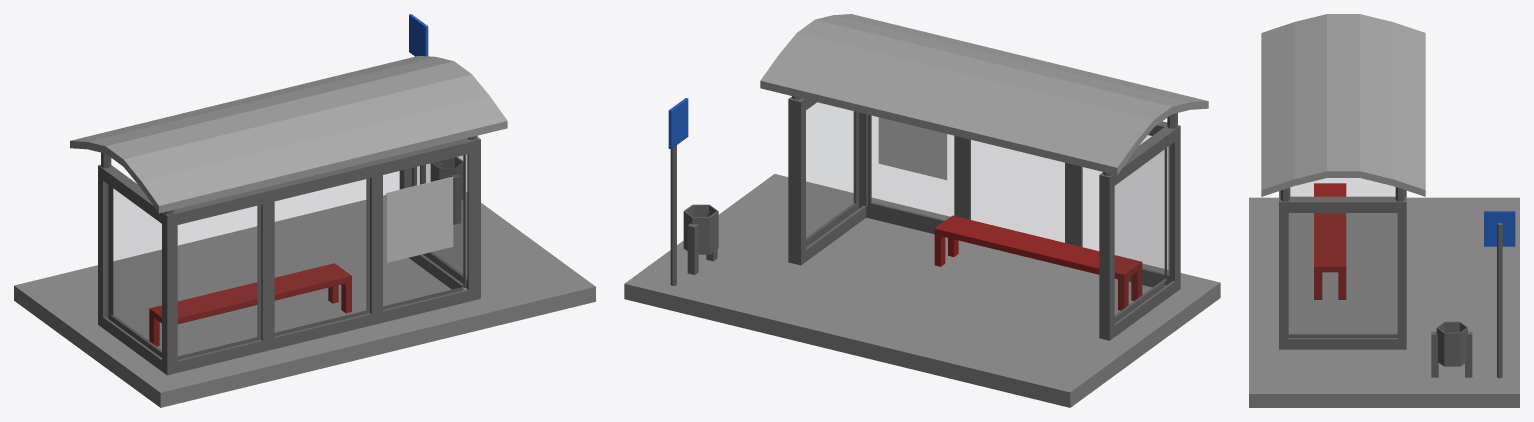
The model's file is Bus_Stop_1.fbx.
3 renders of one model, left to right at view 1: azimuth 30°, elevation 25°; view 2: azimuth 150°, elevation 25°; view 3: azimuth 270°, elevation 25°, orthographic. The views are drawn at different scales.
Parts seen in each view (by area): view 1: Plane; view 2: Plane; view 3: Plane.
Boxes of the visible parts, x1=… form: Plane: x1=14, y1=14, x2=595, y2=407; Plane: x1=624, y1=14, x2=1220, y2=407; Plane: x1=1249, y1=14, x2=1519, y2=407.
Bounding box in the file's own units: 724 × 344 × 422.
